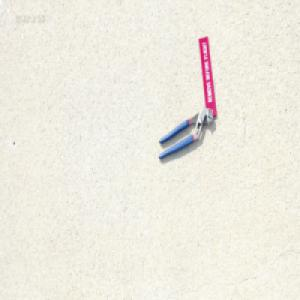Label: (198, 34, 217, 116)
Pliers: (157, 106, 213, 160)
